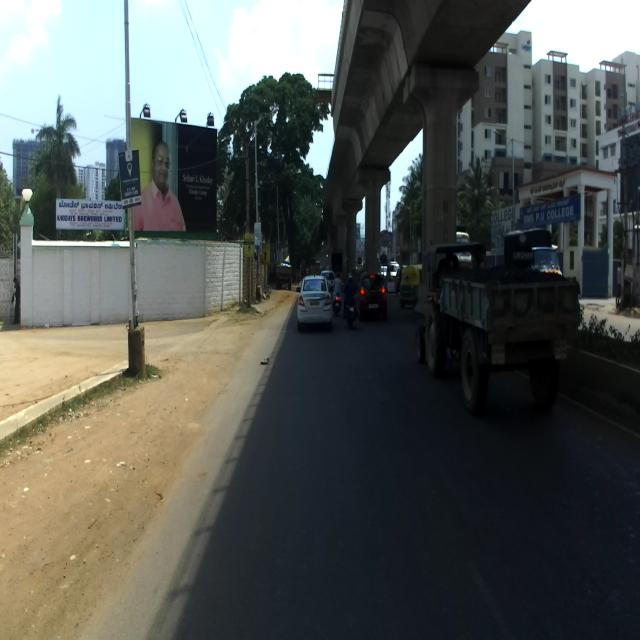truck ahead at: (410, 236, 581, 412)
